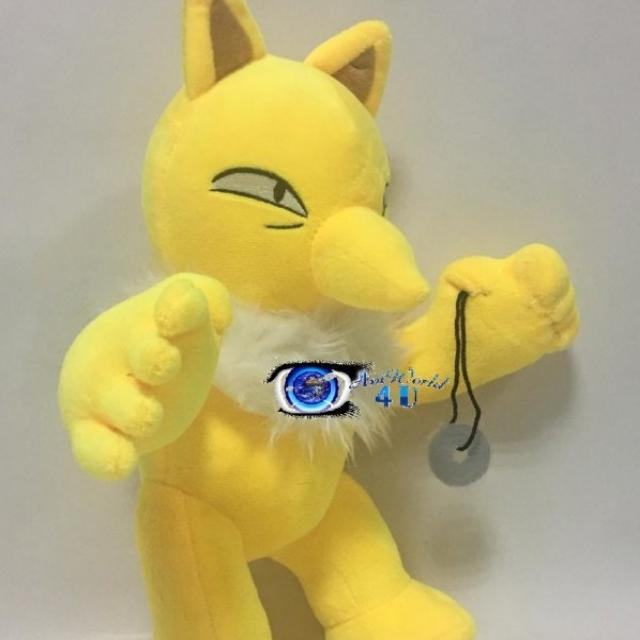Hypno: (140, 6, 488, 640)
